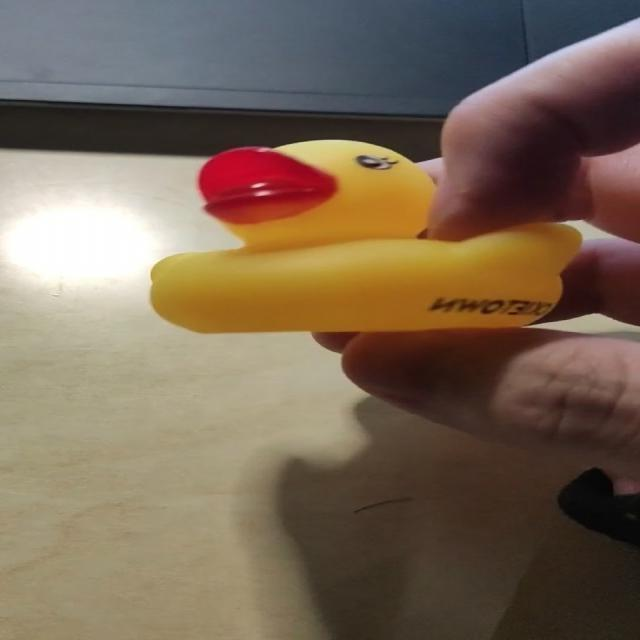rubber-duck: (150, 139, 579, 330)
